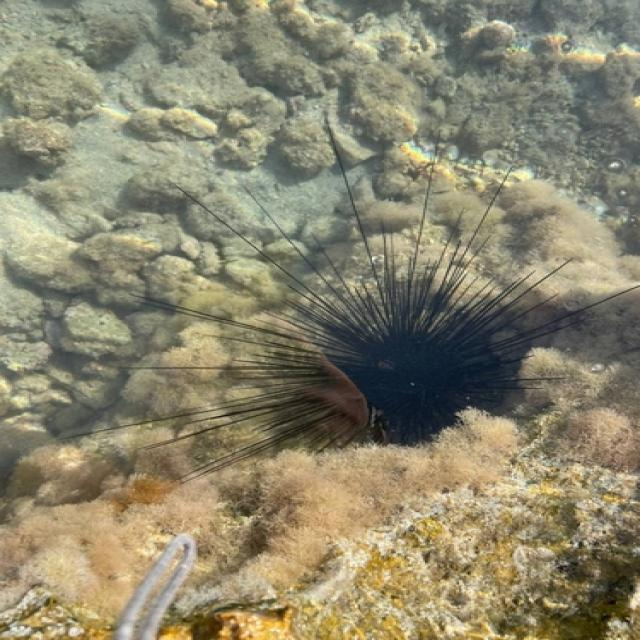Urchin: (54, 124, 640, 468)
